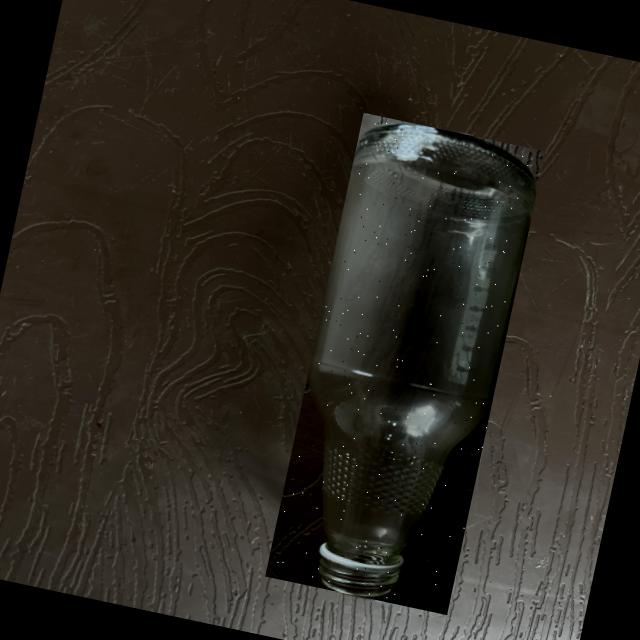Glass_Bottle: (310, 123, 534, 595)
